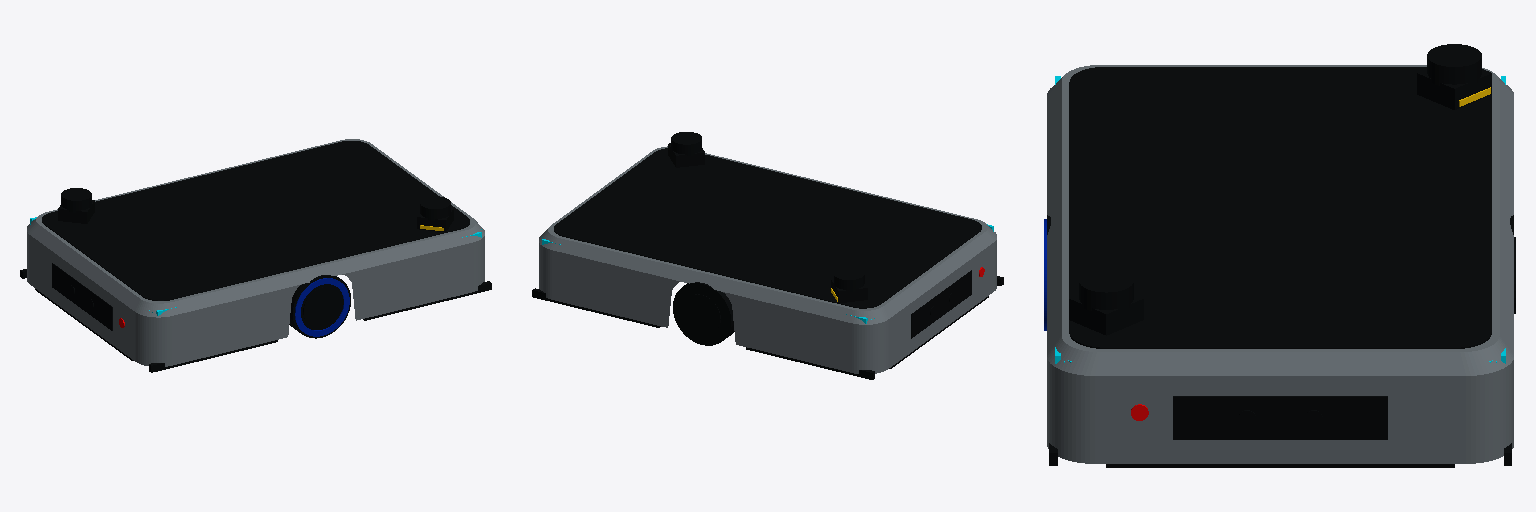
robot.urdf — SEER SBA-400EU:
<robot name="SEER SBA-400EU">
  <material name="silver">
    <color rgba=".43 .46 .48 1" />
  </material>
  <material name="black">
    <color rgba=".06 .07 .075 1" />
  </material>
  <material name="blue">
    <color rgba=".015 .16 .62 1" />
  </material>
  <material name="teal">
    <color rgba="0 .85 .94 1" />
  </material>
  <material name="red">
    <color rgba=".92 .04 .04 1" />
  </material>
  <material name="yellow">
    <color rgba=".95 .76 .04 1" />
  </material>
  <material name="white">
    <color rgba=".95 .97 .98 1" />
  </material>
  <link name="base_footprint" />
  <link name="base_link">
    <inertial>
      <origin xyz="0 0 .091" />
      <mass value="100" />
      <inertia ixx="3.598249666666666" iyy="7.927260333333336" izz="10.973443333333334" ixy="0" ixz="0" iyz="0" />
    </inertial>
    <visual>
      <geometry>
        <mesh filename="package://seer_sba400eu_description/meshes/chassis.stl" />
      </geometry>
      <material name="silver" />
    </visual>
    <visual>
      <geometry>
        <mesh filename="package://seer_sba400eu_description/meshes/top_plate.stl" />
      </geometry>
      <material name="black" />
    </visual>
    <visual>
      <origin xyz="-0.295 -0.307 0.025" rpy="0 0 0" />
      <geometry>
        <box size=".35 .012 .019" />
      </geometry>
      <material name="black" />
    </visual>
    <visual>
      <origin xyz="0.295 -0.307 0.025" rpy="0 0 0" />
      <geometry>
        <box size=".35 .012 .019" />
      </geometry>
      <material name="black" />
    </visual>
    <visual>
      <origin xyz="-0.295 0.307 0.025" rpy="0 0 0" />
      <geometry>
        <box size=".35 .012 .019" />
      </geometry>
      <material name="black" />
    </visual>
    <visual>
      <origin xyz="0.295 0.307 0.025" rpy="0 0 0" />
      <geometry>
        <box size=".35 .012 .019" />
      </geometry>
      <material name="black" />
    </visual>
    <visual>
      <origin xyz="-0.471 0 0.025" rpy="0 0 0" />
      <geometry>
        <box size=".01 .47 .019" />
      </geometry>
      <material name="black" />
    </visual>
    <visual>
      <origin xyz="0.471 0 0.025" rpy="0 0 0" />
      <geometry>
        <box size=".01 .47 .019" />
      </geometry>
      <material name="black" />
    </visual>
    <visual>
      <origin xyz="-0.42 -0.301 0.162" rpy="0 0 0" />
      <geometry>
        <box size=".055 .008 .013" />
      </geometry>
      <material name="teal" />
    </visual>
    <visual>
      <origin xyz="-0.45 -0.27 0.145" rpy="0 0 0" />
      <geometry>
        <box size=".009 .045 .037" />
      </geometry>
      <material name="teal" />
    </visual>
    <visual>
      <origin xyz="-0.443 -0.29 0.159" rpy="0 0 -0.6" />
      <geometry>
        <box size=".035 .008 .014" />
      </geometry>
      <material name="teal" />
    </visual>
    <visual>
      <origin xyz="-0.42 0.301 0.162" rpy="0 0 0" />
      <geometry>
        <box size=".055 .008 .013" />
      </geometry>
      <material name="teal" />
    </visual>
    <visual>
      <origin xyz="-0.45 0.27 0.145" rpy="0 0 0" />
      <geometry>
        <box size=".009 .045 .037" />
      </geometry>
      <material name="teal" />
    </visual>
    <visual>
      <origin xyz="-0.443 0.29 0.159" rpy="0 0 0.6" />
      <geometry>
        <box size=".035 .008 .014" />
      </geometry>
      <material name="teal" />
    </visual>
    <visual>
      <origin xyz="0.42 -0.301 0.162" rpy="0 0 0" />
      <geometry>
        <box size=".055 .008 .013" />
      </geometry>
      <material name="teal" />
    </visual>
    <visual>
      <origin xyz="0.45 -0.27 0.145" rpy="0 0 0" />
      <geometry>
        <box size=".009 .045 .037" />
      </geometry>
      <material name="teal" />
    </visual>
    <visual>
      <origin xyz="0.443 -0.29 0.159" rpy="0 0 0.6" />
      <geometry>
        <box size=".035 .008 .014" />
      </geometry>
      <material name="teal" />
    </visual>
    <visual>
      <origin xyz="0.42 0.301 0.162" rpy="0 0 0" />
      <geometry>
        <box size=".055 .008 .013" />
      </geometry>
      <material name="teal" />
    </visual>
    <visual>
      <origin xyz="0.45 0.27 0.145" rpy="0 0 0" />
      <geometry>
        <box size=".009 .045 .037" />
      </geometry>
      <material name="teal" />
    </visual>
    <visual>
      <origin xyz="0.443 0.29 0.159" rpy="0 0 -0.6" />
      <geometry>
        <box size=".035 .008 .014" />
      </geometry>
      <material name="teal" />
    </visual>
    <visual>
      <origin xyz="-0.477 0 0.092" rpy="0 0 0" />
      <geometry>
        <box size=".007 .29 .064" />
      </geometry>
      <material name="black" />
    </visual>
    <visual>
      <origin xyz="-0.478 -0.045 0.092" rpy="0 1.5707963267948966 0" />
      <geometry>
        <cylinder radius=".012" length=".009" />
      </geometry>
      <material name="black" />
    </visual>
    <visual>
      <origin xyz="-0.478 0.045 0.092" rpy="0 1.5707963267948966 0" />
      <geometry>
        <cylinder radius=".012" length=".009" />
      </geometry>
      <material name="black" />
    </visual>
    <visual>
      <origin xyz="-0.475 -0.19 0.1" rpy="0 1.5707963267948966 0" />
      <geometry>
        <cylinder radius=".018" length=".005" />
      </geometry>
      <material name="yellow" />
    </visual>
    <visual>
      <origin xyz="-0.475 -0.19 0.1" rpy="0 1.5707963267948966 0" />
      <geometry>
        <cylinder radius=".012" length=".014" />
      </geometry>
      <material name="red" />
    </visual>
    <visual>
      <origin xyz="0.477 0 0.092" rpy="0 0 0" />
      <geometry>
        <box size=".007 .29 .064" />
      </geometry>
      <material name="black" />
    </visual>
    <visual>
      <origin xyz="0.478 -0.045 0.092" rpy="0 1.5707963267948966 0" />
      <geometry>
        <cylinder radius=".012" length=".009" />
      </geometry>
      <material name="black" />
    </visual>
    <visual>
      <origin xyz="0.478 0.045 0.092" rpy="0 1.5707963267948966 0" />
      <geometry>
        <cylinder radius=".012" length=".009" />
      </geometry>
      <material name="black" />
    </visual>
    <visual>
      <origin xyz="0.475 -0.19 0.1" rpy="0 1.5707963267948966 0" />
      <geometry>
        <cylinder radius=".018" length=".005" />
      </geometry>
      <material name="yellow" />
    </visual>
    <visual>
      <origin xyz="0.475 -0.19 0.1" rpy="0 1.5707963267948966 0" />
      <geometry>
        <cylinder radius=".012" length=".014" />
      </geometry>
      <material name="red" />
    </visual>
    <visual>
      <origin xyz="0.25 -0.309 0.085" rpy="1.5707963267948966 0 0" />
      <geometry>
        <cylinder radius=".020" length=".002" />
      </geometry>
      <material name="yellow" />
    </visual>
    <visual>
      <origin xyz="0.25 -0.309 0.085" rpy="1.5707963267948966 0 0" />
      <geometry>
        <cylinder radius=".014" length=".011" />
      </geometry>
      <material name="red" />
    </visual>
    <visual>
      <origin xyz="0.25 0.309 0.085" rpy="1.5707963267948966 0 0" />
      <geometry>
        <cylinder radius=".020" length=".002" />
      </geometry>
      <material name="yellow" />
    </visual>
    <visual>
      <origin xyz="0.25 0.309 0.085" rpy="1.5707963267948966 0 0" />
      <geometry>
        <cylinder radius=".014" length=".011" />
      </geometry>
      <material name="red" />
    </visual>
    <collision>
      <origin xyz="0 0 .101" />
      <geometry>
        <box size=".9582 .6314 .162" />
      </geometry>
    </collision>
  </link>
  <joint name="footprint_to_base" type="fixed">
    <parent link="base_footprint" />
    <child link="base_link" />
    <origin xyz="0 0 0" rpy="0 0 0" />
  </joint>
  <link name="drive_left_wheel">
    <visual>
      <origin xyz="0 0 0" rpy="0 0 0" />
      <geometry>
        <cylinder radius=".081" length=".045" />
      </geometry>
      <material name="black" />
    </visual>
    <visual>
      <geometry>
        <mesh filename="package://seer_sba400eu_description/meshes/drive_left_blue_ring.stl" />
      </geometry>
      <material name="blue" />
    </visual>
    <visual>
      <origin xyz="0 0 -0.023" rpy="0 0 0" />
      <geometry>
        <cylinder radius=".052" length=".002" />
      </geometry>
      <material name="black" />
    </visual>
    <visual>
      <origin xyz="0 0 0.023" rpy="0 0 0" />
      <geometry>
        <cylinder radius=".052" length=".002" />
      </geometry>
      <material name="black" />
    </visual>
  </link>
  <joint name="drive_left_joint" type="continuous">
    <parent link="base_link" />
    <child link="drive_left_wheel" />
    <origin xyz="0 0.2932 0.081" rpy="1.5707963267948966 0 0" />
    <axis xyz="0 0 1" />
  </joint>
  <link name="left_logo_panel">
    <visual>
      <origin xyz="0 0 0" rpy="0 0 0" />
      <geometry>
        <box size=".17 .045 .004" />
      </geometry>
      <material name="blue" />
    </visual>
    <visual>
      <origin xyz="-0.040499999999999994 0.0 0.0026" rpy="0 0 -0.8721365020734334" />
      <geometry>
        <box size="0.03264965543462902 .0025 .001" />
      </geometry>
      <material name="white" />
    </visual>
    <visual>
      <origin xyz="-0.051 0.006250000000000002 0.0026" rpy="0 0 -1.5707963267948966" />
      <geometry>
        <box size="0.0125 .0025 .001" />
      </geometry>
      <material name="white" />
    </visual>
    <visual>
      <origin xyz="-0.040499999999999994 0.0 0.0026" rpy="0 0 0.0" />
      <geometry>
        <box size="0.021 .0025 .001" />
      </geometry>
      <material name="white" />
    </visual>
    <visual>
      <origin xyz="-0.029999999999999995 -0.00625 0.0026" rpy="0 0 -1.5707963267948966" />
      <geometry>
        <box size="0.0125 .0025 .001" />
      </geometry>
      <material name="white" />
    </visual>
    <visual>
      <origin xyz="-0.040499999999999994 -0.0125 0.0026" rpy="0 0 0.0" />
      <geometry>
        <box size="0.021 .0025 .001" />
      </geometry>
      <material name="white" />
    </visual>
    <visual>
      <origin xyz="-0.018999999999999996 0.0 0.0026" rpy="0 0 1.5707963267948966" />
      <geometry>
        <box size="0.025 .0025 .001" />
      </geometry>
      <material name="white" />
    </visual>
    <visual>
      <origin xyz="-0.008499999999999995 0.0125 0.0026" rpy="0 0 0.0" />
      <geometry>
        <box size="0.021 .0025 .001" />
      </geometry>
      <material name="white" />
    </visual>
    <visual>
      <origin xyz="-0.010599999999999995 0.0 0.0026" rpy="0 0 0.0" />
      <geometry>
        <box size="0.016800000000000002 .0025 .001" />
      </geometry>
      <material name="white" />
    </visual>
    <visual>
      <origin xyz="-0.008499999999999995 -0.0125 0.0026" rpy="0 0 0.0" />
      <geometry>
        <box size="0.021 .0025 .001" />
      </geometry>
      <material name="white" />
    </visual>
    <visual>
      <origin xyz="0.013000000000000005 0.0 0.0026" rpy="0 0 1.5707963267948966" />
      <geometry>
        <box size="0.025 .0025 .001" />
      </geometry>
      <material name="white" />
    </visual>
    <visual>
      <origin xyz="0.023500000000000007 0.0125 0.0026" rpy="0 0 0.0" />
      <geometry>
        <box size="0.021 .0025 .001" />
      </geometry>
      <material name="white" />
    </visual>
    <visual>
      <origin xyz="0.021400000000000006 0.0 0.0026" rpy="0 0 0.0" />
      <geometry>
        <box size="0.016800000000000002 .0025 .001" />
      </geometry>
      <material name="white" />
    </visual>
    <visual>
      <origin xyz="0.023500000000000007 -0.0125 0.0026" rpy="0 0 0.0" />
      <geometry>
        <box size="0.021 .0025 .001" />
      </geometry>
      <material name="white" />
    </visual>
    <visual>
      <origin xyz="0.045000000000000005 0.0 0.0026" rpy="0 0 1.5707963267948966" />
      <geometry>
        <box size="0.025 .0025 .001" />
      </geometry>
      <material name="white" />
    </visual>
    <visual>
      <origin xyz="0.05550000000000001 0.0125 0.0026" rpy="0 0 0.0" />
      <geometry>
        <box size="0.021 .0025 .001" />
      </geometry>
      <material name="white" />
    </visual>
    <visual>
      <origin xyz="0.066 0.006250000000000002 0.0026" rpy="0 0 -1.5707963267948966" />
      <geometry>
        <box size="0.0125 .0025 .001" />
      </geometry>
      <material name="white" />
    </visual>
    <visual>
      <origin xyz="0.05550000000000001 0.0 0.0026" rpy="0 0 0.0" />
      <geometry>
        <box size="0.021 .0025 .001" />
      </geometry>
      <material name="white" />
    </visual>
    <visual>
      <origin xyz="0.060750000000000005 -0.00625 0.0026" rpy="0 0 -0.8721365020734334" />
      <geometry>
        <box size="0.01632482771731451 .0025 .001" />
      </geometry>
      <material name="white" />
    </visual>
  </link>
  <joint name="left_logo_mount" type="fixed">
    <parent link="base_link" />
    <child link="left_logo_panel" />
    <origin xyz="-0.27 0.306 0.12" rpy="1.5707963267948966 0 0" />
  </joint>
  <link name="drive_right_wheel">
    <visual>
      <origin xyz="0 0 0" rpy="0 0 0" />
      <geometry>
        <cylinder radius=".081" length=".045" />
      </geometry>
      <material name="black" />
    </visual>
    <visual>
      <geometry>
        <mesh filename="package://seer_sba400eu_description/meshes/drive_right_blue_ring.stl" />
      </geometry>
      <material name="blue" />
    </visual>
    <visual>
      <origin xyz="0 0 -0.023" rpy="0 0 0" />
      <geometry>
        <cylinder radius=".052" length=".002" />
      </geometry>
      <material name="black" />
    </visual>
    <visual>
      <origin xyz="0 0 0.023" rpy="0 0 0" />
      <geometry>
        <cylinder radius=".052" length=".002" />
      </geometry>
      <material name="black" />
    </visual>
  </link>
  <joint name="drive_right_joint" type="continuous">
    <parent link="base_link" />
    <child link="drive_right_wheel" />
    <origin xyz="0 -0.2932 0.081" rpy="1.5707963267948966 0 0" />
    <axis xyz="0 0 1" />
  </joint>
  <link name="right_logo_panel">
    <visual>
      <origin xyz="0 0 0" rpy="0 0 0" />
      <geometry>
        <box size=".17 .045 .004" />
      </geometry>
      <material name="blue" />
    </visual>
    <visual>
      <origin xyz="-0.040499999999999994 0.0 0.0026" rpy="0 0 -0.8721365020734334" />
      <geometry>
        <box size="0.03264965543462902 .0025 .001" />
      </geometry>
      <material name="white" />
    </visual>
    <visual>
      <origin xyz="-0.051 0.006250000000000002 0.0026" rpy="0 0 -1.5707963267948966" />
      <geometry>
        <box size="0.0125 .0025 .001" />
      </geometry>
      <material name="white" />
    </visual>
    <visual>
      <origin xyz="-0.040499999999999994 0.0 0.0026" rpy="0 0 0.0" />
      <geometry>
        <box size="0.021 .0025 .001" />
      </geometry>
      <material name="white" />
    </visual>
    <visual>
      <origin xyz="-0.029999999999999995 -0.00625 0.0026" rpy="0 0 -1.5707963267948966" />
      <geometry>
        <box size="0.0125 .0025 .001" />
      </geometry>
      <material name="white" />
    </visual>
    <visual>
      <origin xyz="-0.040499999999999994 -0.0125 0.0026" rpy="0 0 0.0" />
      <geometry>
        <box size="0.021 .0025 .001" />
      </geometry>
      <material name="white" />
    </visual>
    <visual>
      <origin xyz="-0.018999999999999996 0.0 0.0026" rpy="0 0 1.5707963267948966" />
      <geometry>
        <box size="0.025 .0025 .001" />
      </geometry>
      <material name="white" />
    </visual>
    <visual>
      <origin xyz="-0.008499999999999995 0.0125 0.0026" rpy="0 0 0.0" />
      <geometry>
        <box size="0.021 .0025 .001" />
      </geometry>
      <material name="white" />
    </visual>
    <visual>
      <origin xyz="-0.010599999999999995 0.0 0.0026" rpy="0 0 0.0" />
      <geometry>
        <box size="0.016800000000000002 .0025 .001" />
      </geometry>
      <material name="white" />
    </visual>
    <visual>
      <origin xyz="-0.008499999999999995 -0.0125 0.0026" rpy="0 0 0.0" />
      <geometry>
        <box size="0.021 .0025 .001" />
      </geometry>
      <material name="white" />
    </visual>
    <visual>
      <origin xyz="0.013000000000000005 0.0 0.0026" rpy="0 0 1.5707963267948966" />
      <geometry>
        <box size="0.025 .0025 .001" />
      </geometry>
      <material name="white" />
    </visual>
    <visual>
      <origin xyz="0.023500000000000007 0.0125 0.0026" rpy="0 0 0.0" />
      <geometry>
        <box size="0.021 .0025 .001" />
      </geometry>
      <material name="white" />
    </visual>
    <visual>
      <origin xyz="0.021400000000000006 0.0 0.0026" rpy="0 0 0.0" />
      <geometry>
        <box size="0.016800000000000002 .0025 .001" />
      </geometry>
      <material name="white" />
    </visual>
    <visual>
      <origin xyz="0.023500000000000007 -0.0125 0.0026" rpy="0 0 0.0" />
      <geometry>
        <box size="0.021 .0025 .001" />
      </geometry>
      <material name="white" />
    </visual>
    <visual>
      <origin xyz="0.045000000000000005 0.0 0.0026" rpy="0 0 1.5707963267948966" />
      <geometry>
        <box size="0.025 .0025 .001" />
      </geometry>
      <material name="white" />
    </visual>
    <visual>
      <origin xyz="0.05550000000000001 0.0125 0.0026" rpy="0 0 0.0" />
      <geometry>
        <box size="0.021 .0025 .001" />
      </geometry>
      <material name="white" />
    </visual>
    <visual>
      <origin xyz="0.066 0.006250000000000002 0.0026" rpy="0 0 -1.5707963267948966" />
      <geometry>
        <box size="0.0125 .0025 .001" />
      </geometry>
      <material name="white" />
    </visual>
    <visual>
      <origin xyz="0.05550000000000001 0.0 0.0026" rpy="0 0 0.0" />
      <geometry>
        <box size="0.021 .0025 .001" />
      </geometry>
      <material name="white" />
    </visual>
    <visual>
      <origin xyz="0.060750000000000005 -0.00625 0.0026" rpy="0 0 -0.8721365020734334" />
      <geometry>
        <box size="0.01632482771731451 .0025 .001" />
      </geometry>
      <material name="white" />
    </visual>
  </link>
  <joint name="right_logo_mount" type="fixed">
    <parent link="base_link" />
    <child link="right_logo_panel" />
    <origin xyz="-0.27 -0.306 0.12" rpy="1.5707963267948966 0 0" />
  </joint>
  <link name="caster_r_r">
    <visual>
      <origin xyz="0 0 0" rpy="0 0 0" />
      <geometry>
        <cylinder radius=".028" length=".035" />
      </geometry>
      <material name="black" />
    </visual>
  </link>
  <joint name="mount_caster_r_r" type="fixed">
    <parent link="base_link" />
    <child link="caster_r_r" />
    <origin xyz="-0.35 -0.22 0.028" rpy="1.5707963267948966 0 0" />
  </joint>
  <link name="caster_r_l">
    <visual>
      <origin xyz="0 0 0" rpy="0 0 0" />
      <geometry>
        <cylinder radius=".028" length=".035" />
      </geometry>
      <material name="black" />
    </visual>
  </link>
  <joint name="mount_caster_r_l" type="fixed">
    <parent link="base_link" />
    <child link="caster_r_l" />
    <origin xyz="-0.35 0.22 0.028" rpy="1.5707963267948966 0 0" />
  </joint>
  <link name="caster_f_r">
    <visual>
      <origin xyz="0 0 0" rpy="0 0 0" />
      <geometry>
        <cylinder radius=".028" length=".035" />
      </geometry>
      <material name="black" />
    </visual>
  </link>
  <joint name="mount_caster_f_r" type="fixed">
    <parent link="base_link" />
    <child link="caster_f_r" />
    <origin xyz="0.35 -0.22 0.028" rpy="1.5707963267948966 0 0" />
  </joint>
  <link name="caster_f_l">
    <visual>
      <origin xyz="0 0 0" rpy="0 0 0" />
      <geometry>
        <cylinder radius=".028" length=".035" />
      </geometry>
      <material name="black" />
    </visual>
  </link>
  <joint name="mount_caster_f_l" type="fixed">
    <parent link="base_link" />
    <child link="caster_f_l" />
    <origin xyz="0.35 0.22 0.028" rpy="1.5707963267948966 0 0" />
  </joint>
  <link name="lidar_1_link">
    <visual>
      <origin xyz="0 0 0.001" rpy="0 0 0" />
      <geometry>
        <box size=".072 .072 .033" />
      </geometry>
      <material name="black" />
    </visual>
    <visual>
      <origin xyz="0 0 0.028" rpy="0 0 0" />
      <geometry>
        <cylinder radius=".037" length=".031" />
      </geometry>
      <material name="black" />
    </visual>
    <visual>
      <origin xyz="0.002 -0.036 -0.007" rpy="0 0 0" />
      <geometry>
        <box size=".060 .004 .009" />
      </geometry>
      <material name="yellow" />
    </visual>
  </link>
  <joint name="lidar_1_mount" type="fixed">
    <parent link="base_link" />
    <child link="lidar_1_link" />
    <origin xyz="0.36 -0.235 0.1965" rpy="0 0 -0.7853981633974483" />
  </joint>
  <link name="lidar_2_link">
    <visual>
      <origin xyz="0 0 0.001" rpy="0 0 0" />
      <geometry>
        <box size=".072 .072 .033" />
      </geometry>
      <material name="black" />
    </visual>
    <visual>
      <origin xyz="0 0 0.028" rpy="0 0 0" />
      <geometry>
        <cylinder radius=".037" length=".031" />
      </geometry>
      <material name="black" />
    </visual>
    <visual>
      <origin xyz="0.002 -0.036 -0.007" rpy="0 0 0" />
      <geometry>
        <box size=".060 .004 .009" />
      </geometry>
      <material name="yellow" />
    </visual>
  </link>
  <joint name="lidar_2_mount" type="fixed">
    <parent link="base_link" />
    <child link="lidar_2_link" />
    <origin xyz="-0.36 0.235 0.1965" rpy="0 0 2.356194490192345" />
  </joint>
  <link name="arm_mount_link" />
  <joint name="arm_mount_joint" type="fixed">
    <parent link="base_link" />
    <child link="arm_mount_link" />
    <origin xyz="0 0 0.182" rpy="0 0 0" />
  </joint>
</robot>

--- Facts derived from the render (not from the file) ---
The picture shows the robot from 3 angles, left to right: view 1: azimuth 30°, elevation 25°; view 2: azimuth 150°, elevation 25°; view 3: azimuth 270°, elevation 25°; orthographic projection.
Robot: SEER SBA-400EU — 13 links, 12 joints (2 continuous, 10 fixed); root link base_footprint; default pose: every joint at zero.
Visible links, largest first — view 1: base_link, drive_right_wheel, lidar_1_link, lidar_2_link; view 2: base_link, drive_left_wheel, lidar_2_link, lidar_1_link; view 3: base_link, lidar_2_link, lidar_1_link.
Link boxes in pixels (x1,y1,x2,y2): base_link: [20, 139, 491, 372]; drive_right_wheel: [289, 275, 350, 338]; lidar_1_link: [417, 196, 453, 231]; lidar_2_link: [58, 188, 94, 223]; base_link: [532, 146, 1003, 379]; drive_left_wheel: [673, 282, 734, 345]; lidar_2_link: [831, 267, 867, 303]; lidar_1_link: [668, 132, 704, 167]; base_link: [1047, 65, 1513, 467]; lidar_2_link: [1417, 44, 1491, 109]; lidar_1_link: [1069, 269, 1143, 335].
Size in the robot's own frame: 0.965 by 0.6359 by 0.24 metres.
3 mesh visuals loaded from 4 distinct referenced files (3 binary STL); not drawn: 1 (reference not matched to a file when rendering).
